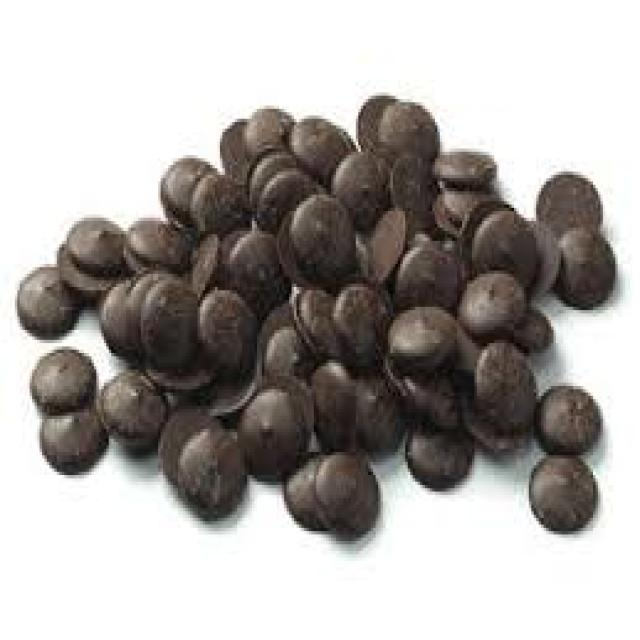Chocolate: (14, 91, 621, 542)
